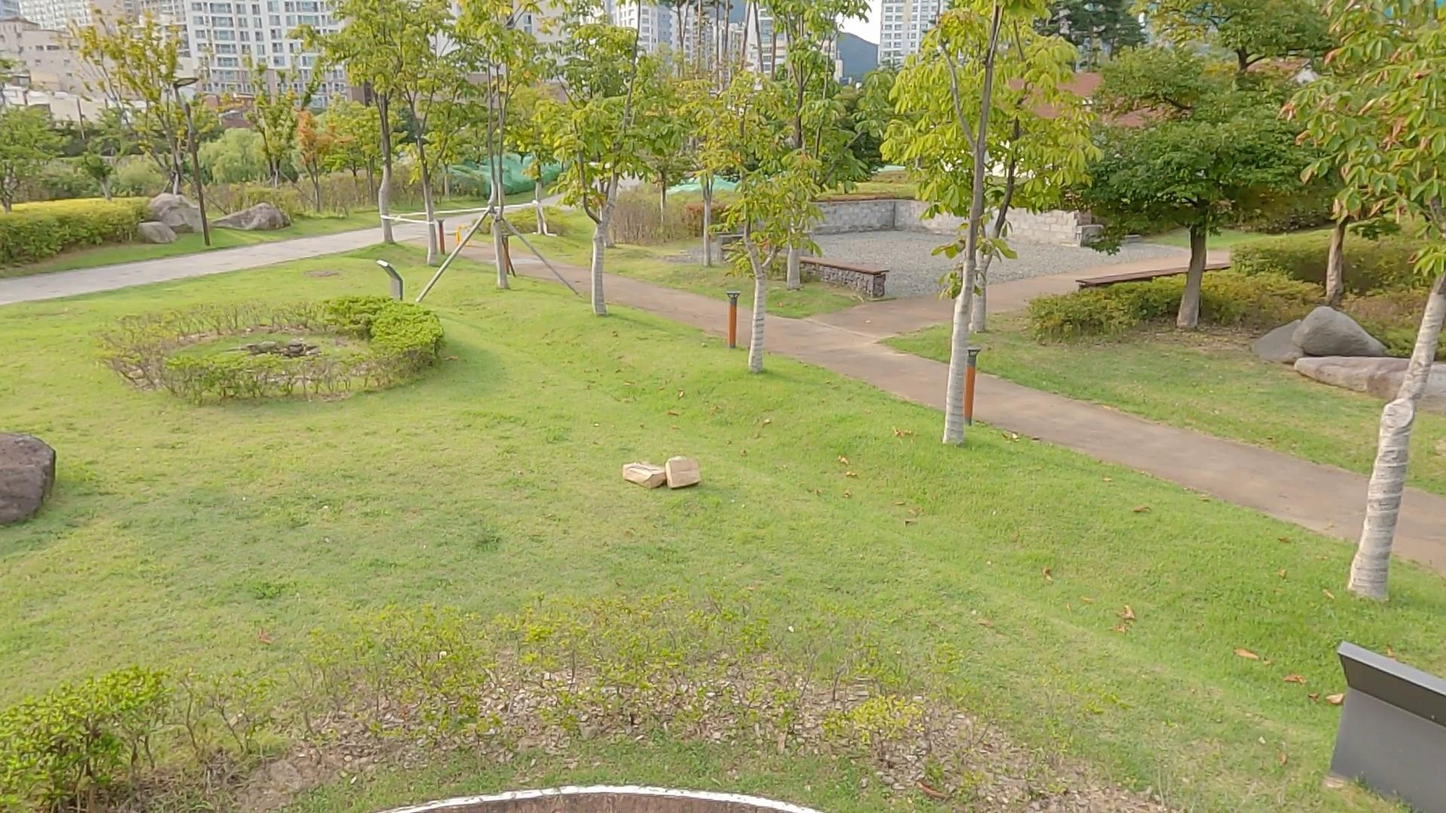trash: (620, 453, 664, 492), (662, 453, 704, 492)
